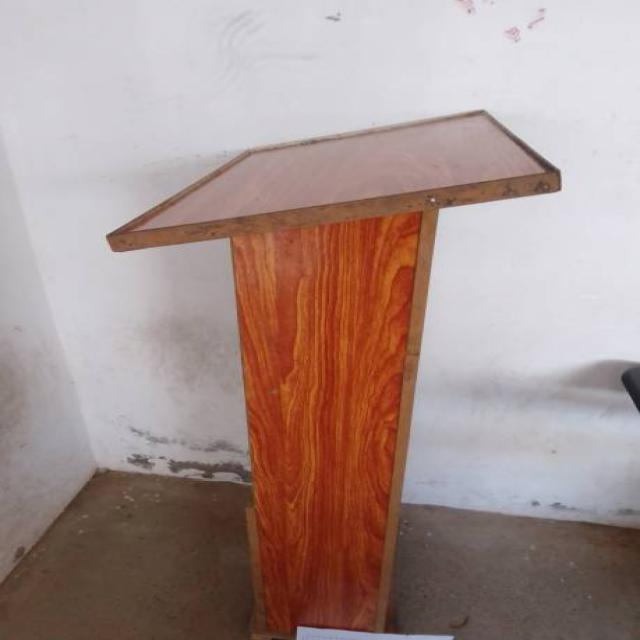table: (103, 108, 562, 638)
